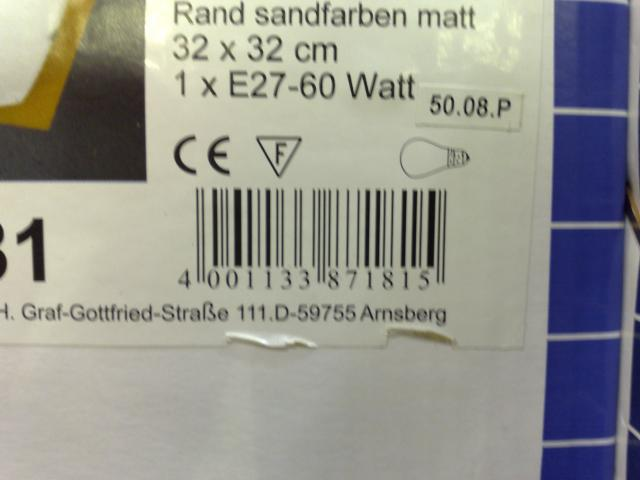Barkod: (194, 186, 446, 268)
